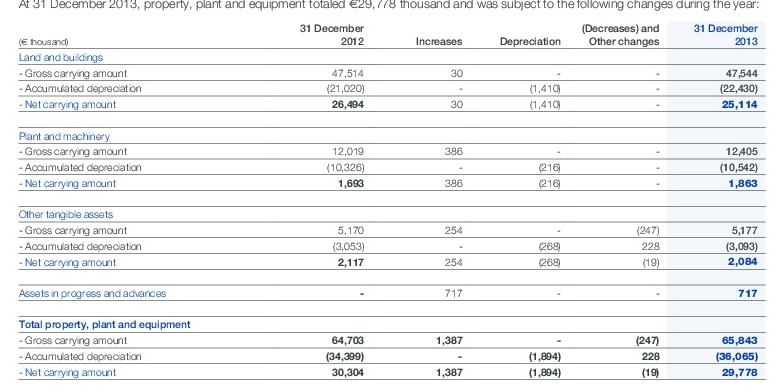table: (0, 0, 780, 392)
